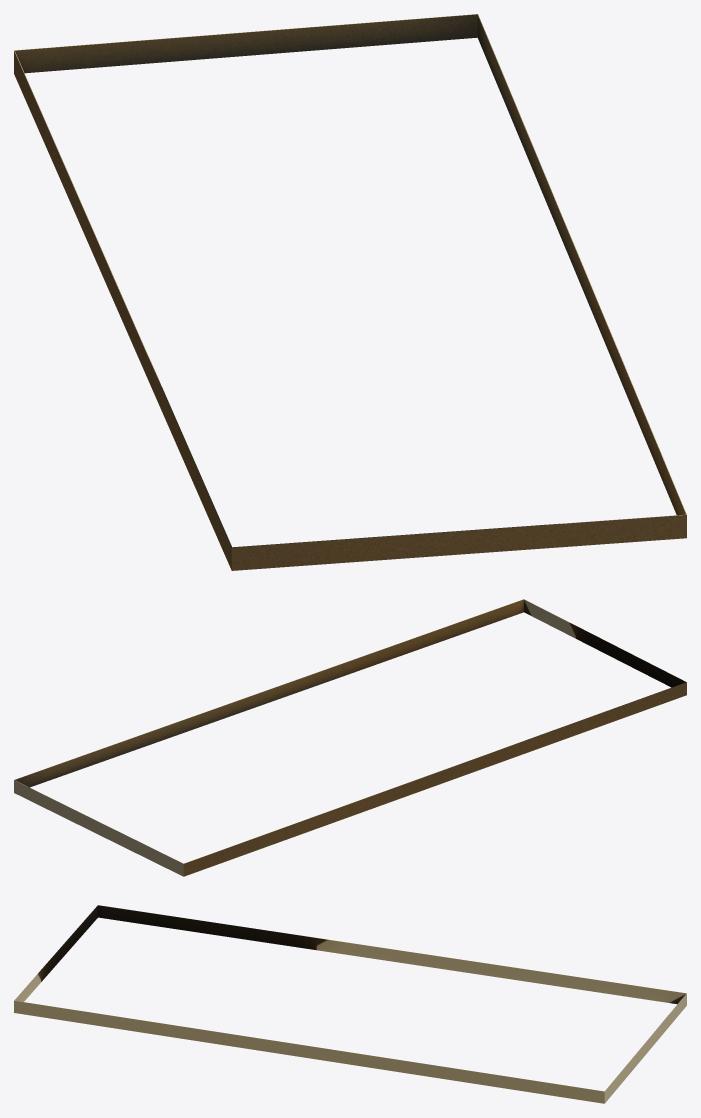
File: Balustrade_05_Top.fbx
3 views of the same model, one above another, from view 1: azimuth 30°, elevation 25°; view 2: azimuth 150°, elevation 25°; view 3: azimuth 270°, elevation 25° (orthographic). The views are drawn at different scales.
Visible parts, largest first — view 1: Balustrade_05_Top; view 2: Balustrade_05_Top; view 3: Balustrade_05_Top.
Boxes of the visible parts, left/top/right/bottom form: Balustrade_05_Top: left=14, top=14, right=686, bottom=570; Balustrade_05_Top: left=14, top=599, right=686, bottom=876; Balustrade_05_Top: left=14, top=905, right=686, bottom=1103.
Size of the model in its own units: 32.7 by 1 by 49.88.
1 material, 1 textured.
